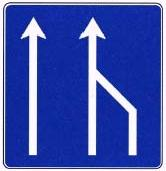Supressao de via de transito: (3, 0, 166, 168)
